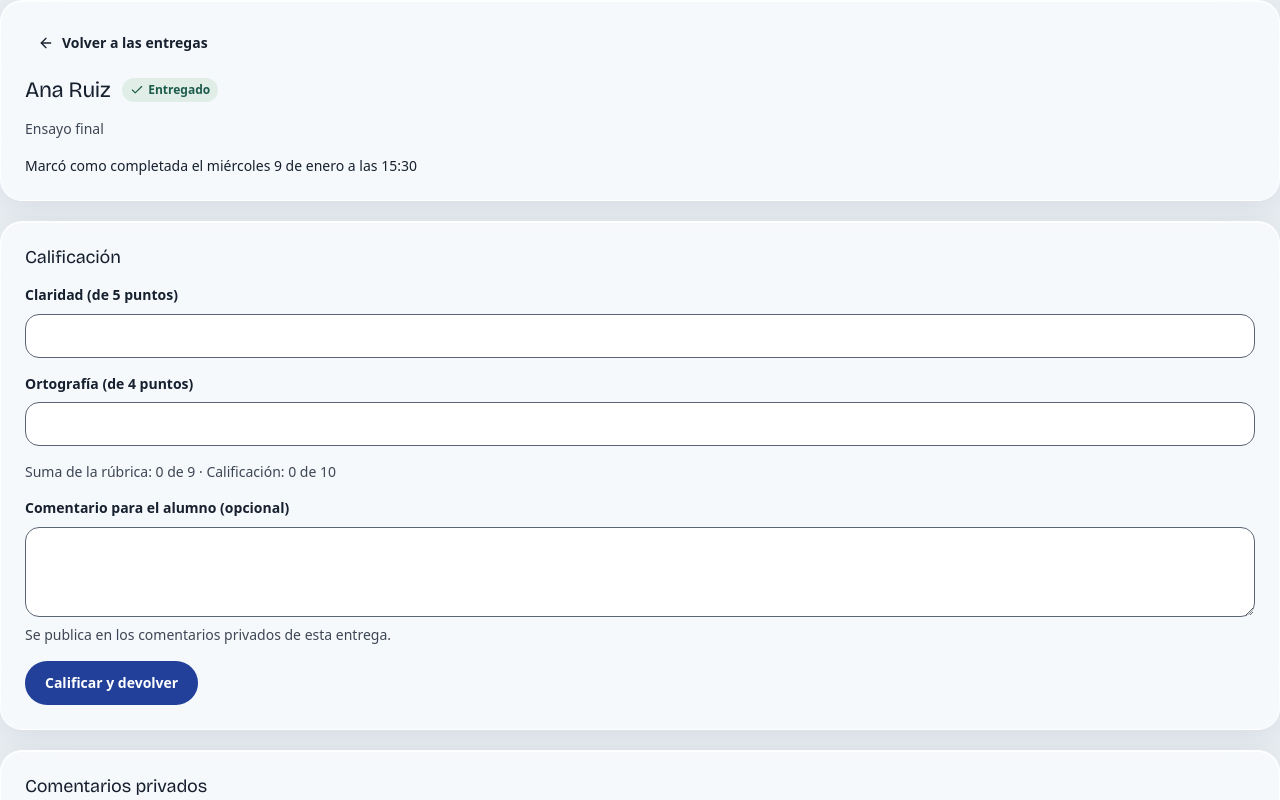
Scenario: CHORE-03 · la frase genérica en un ErrorDeCampo: repetir el control › CH3-A18: panel de calificación tras F2: el mismo botón manda una petición nueva y, si responde bien, el ErrorDeCampo desaparece
Type "4" into the field labelled "Claridad (de 5 puntos)" at (640, 336), box 25,314 -> 1255,358
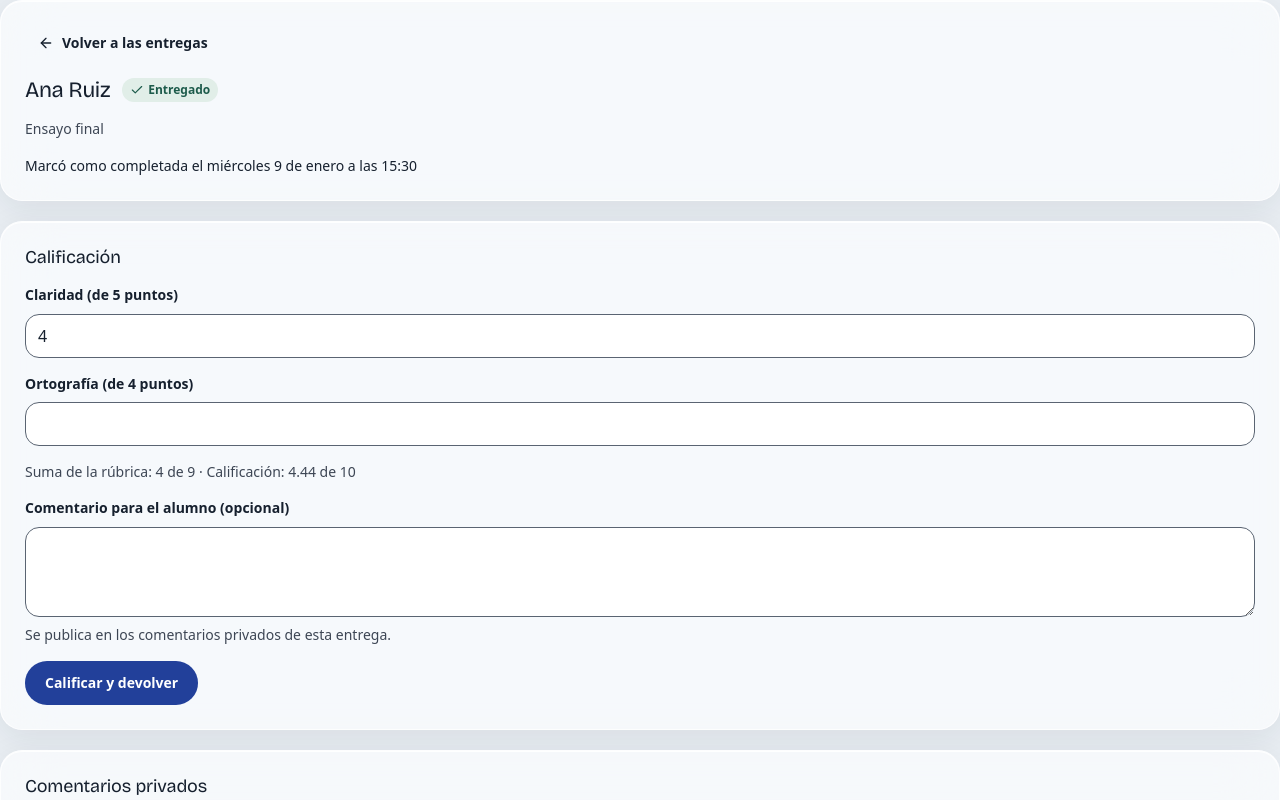
Type "3" into the field labelled "Ortografía (de 4 puntos)" at (640, 424), box 25,402 -> 1255,446
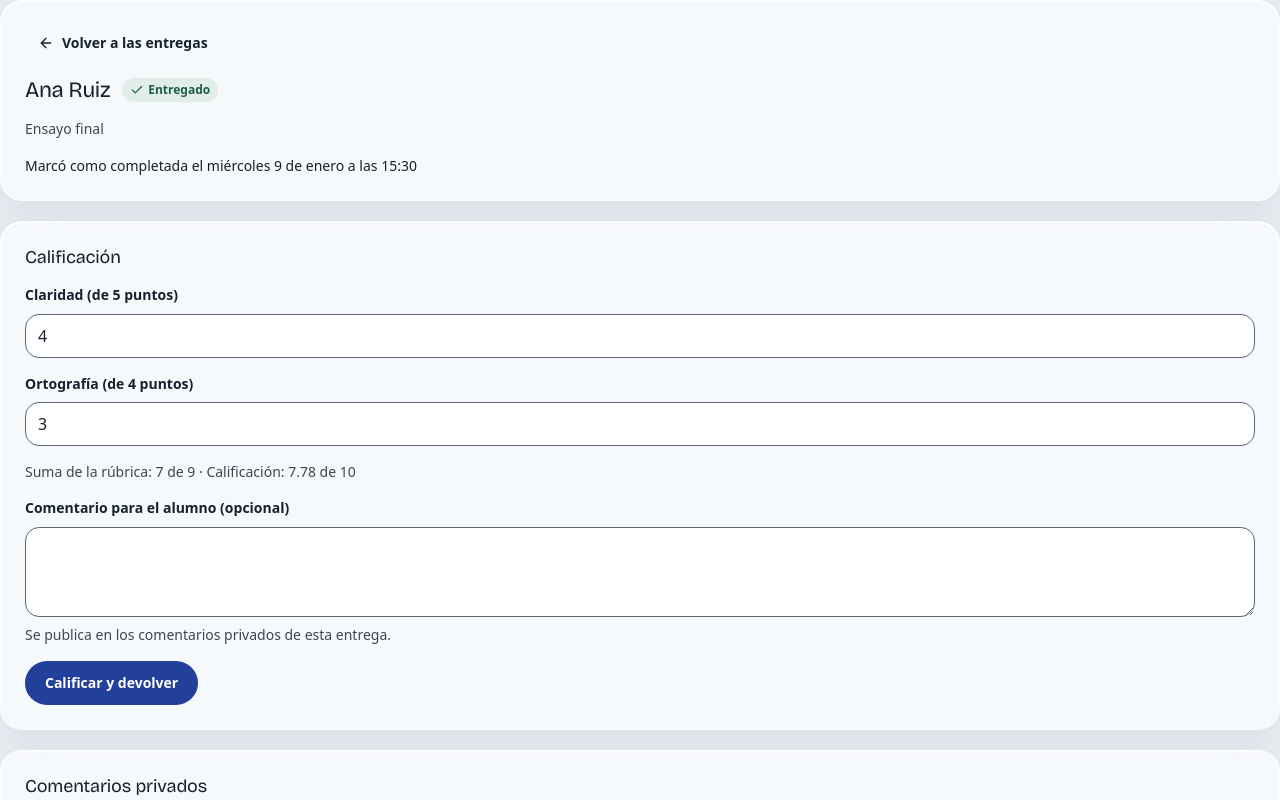
Type "Buen trabajo" into the text box labelled "Comentario para el alumno (opcional)" at (640, 572), box 25,527 -> 1255,617
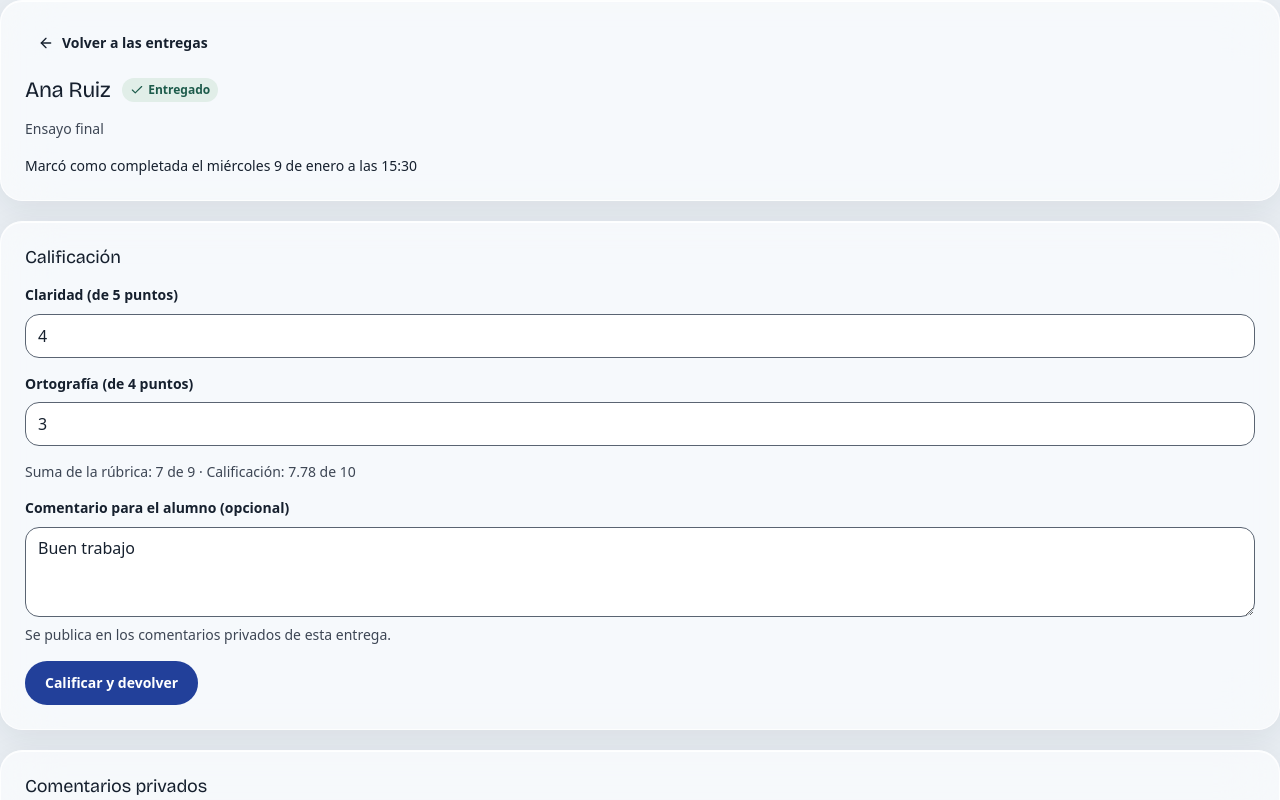
Click the button "Calificar y devolver" at (112, 683), box 25,661 -> 198,705
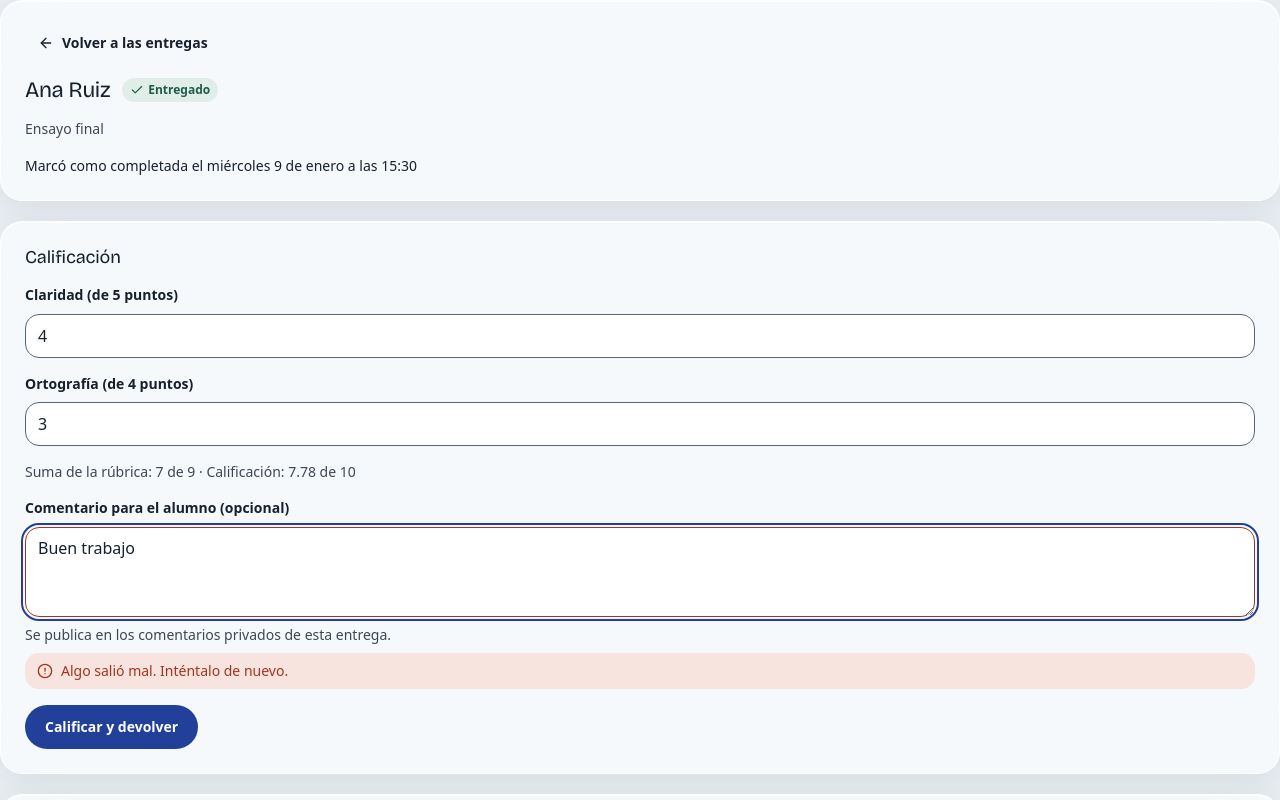
Click the button "Calificar y devolver" at (112, 727), box 25,705 -> 198,749
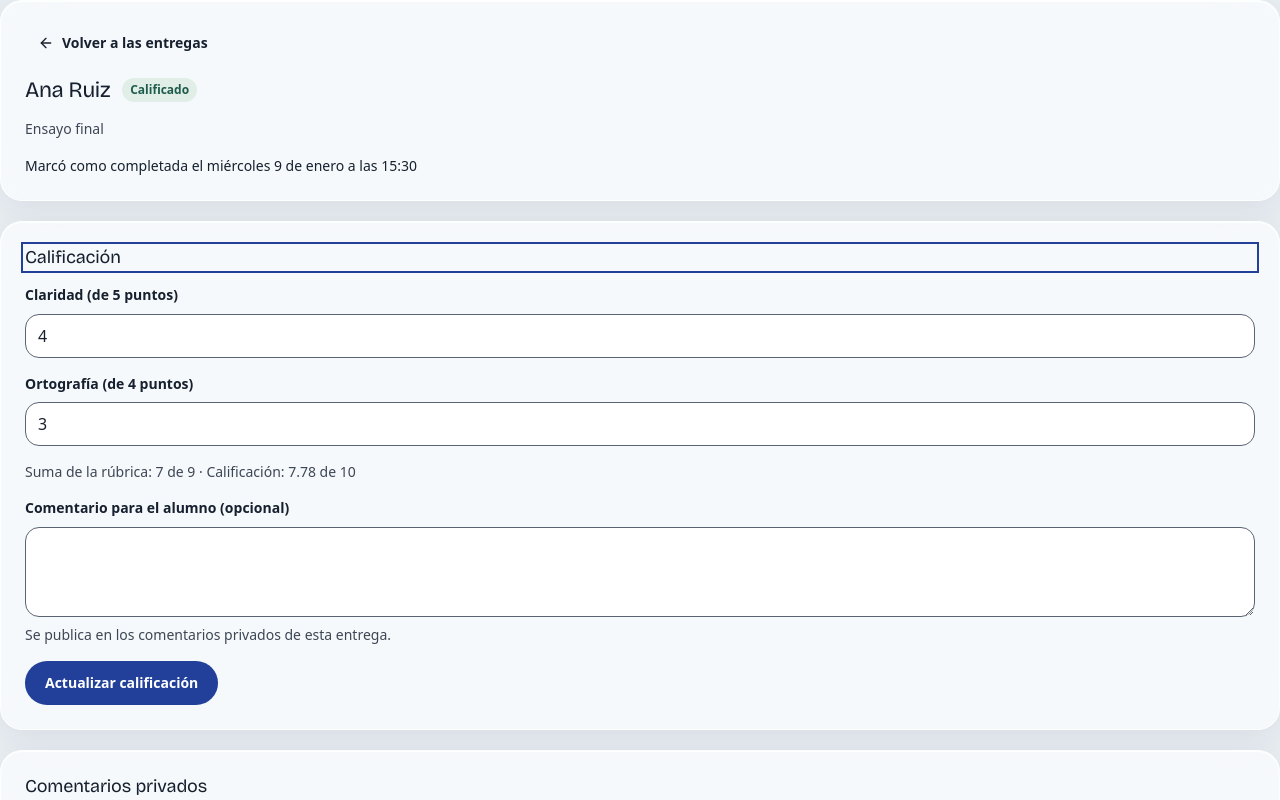
Check: the text "Algo salió mal. Inténtalo de nuevo." is gone
